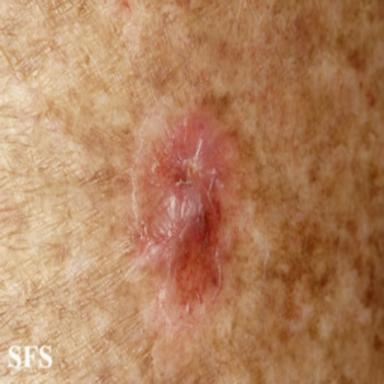Porokeratosis: (134, 108, 247, 326)
